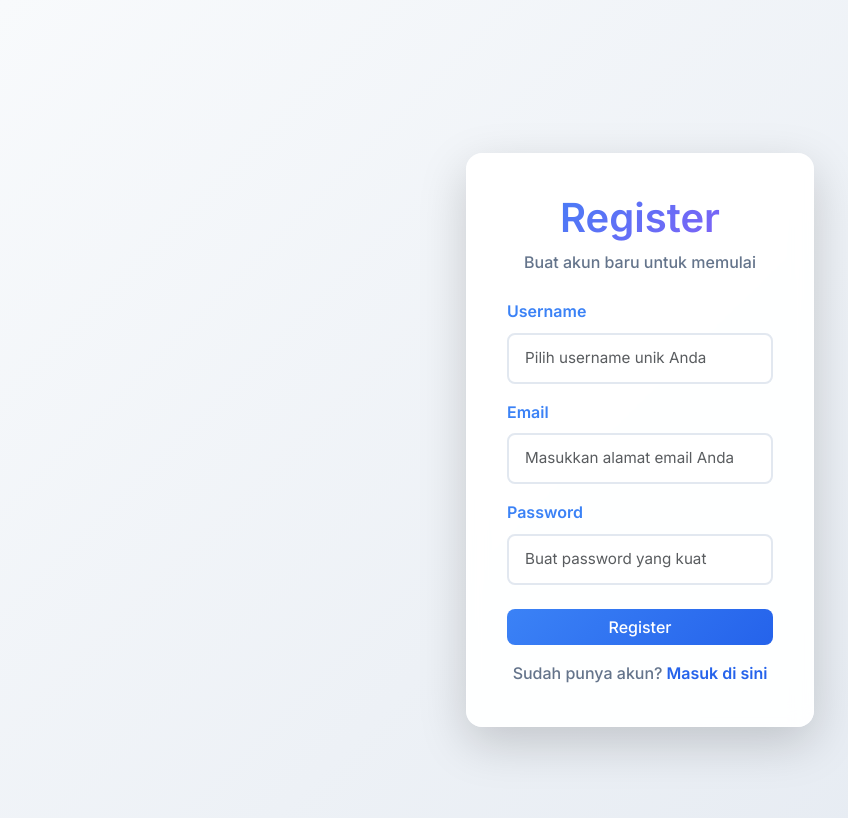
Test: Register Component › shows error when email is empty
The image size is (848, 818).
Type "testuser" into the field labelled "Username".
click(640, 358); type("testuser")  # box [507, 333, 773, 384]
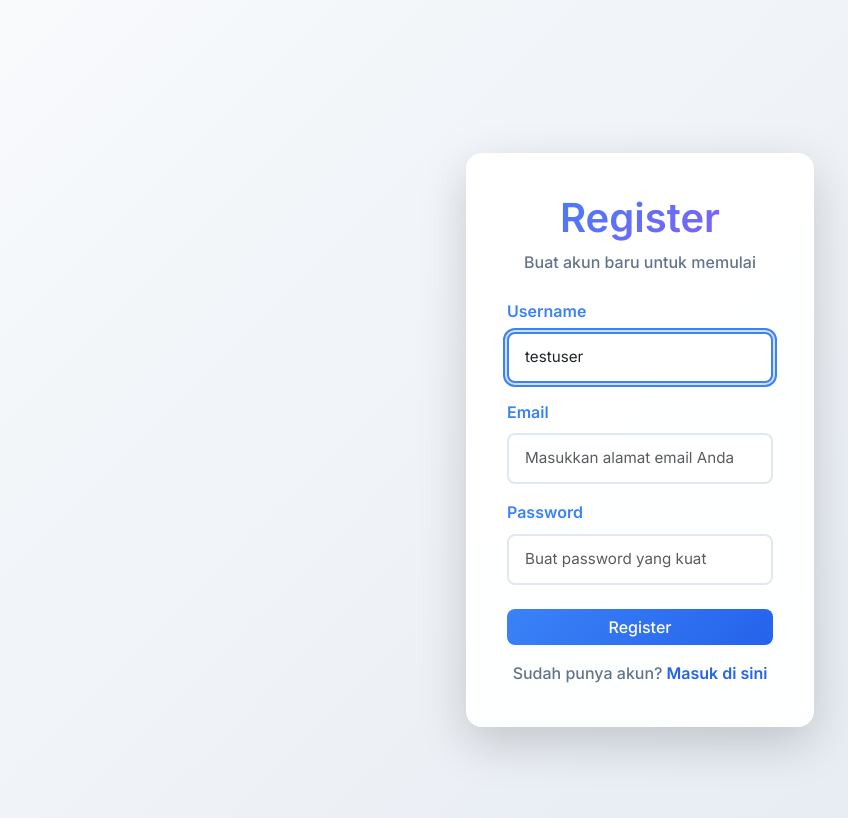
Type "password123" into the password field labelled "Password".
click(640, 559); type("password123")  # box [507, 534, 773, 585]
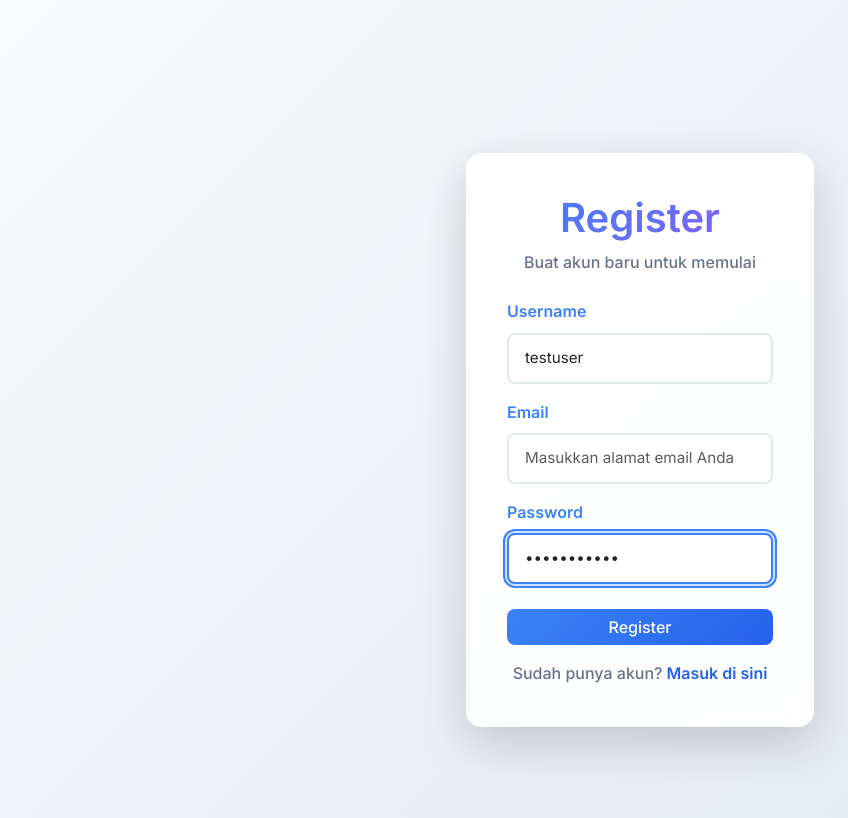
Click the button "Register".
click(640, 627)  # box [507, 609, 773, 645]
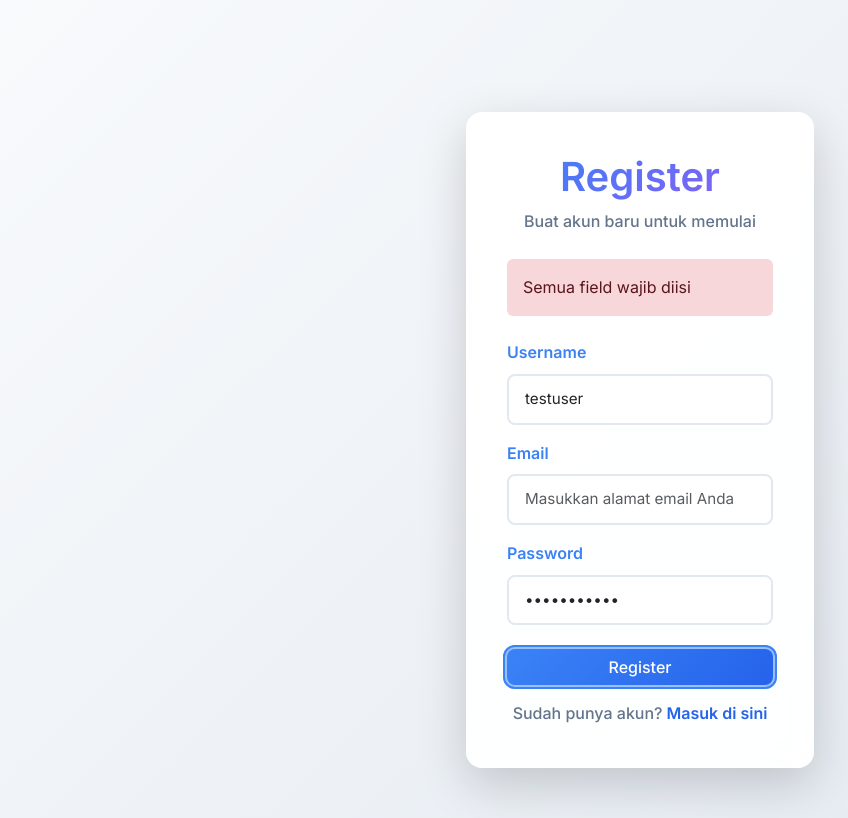
Result: the text "Semua field wajib diisi" is shown at [507, 259, 773, 316]
